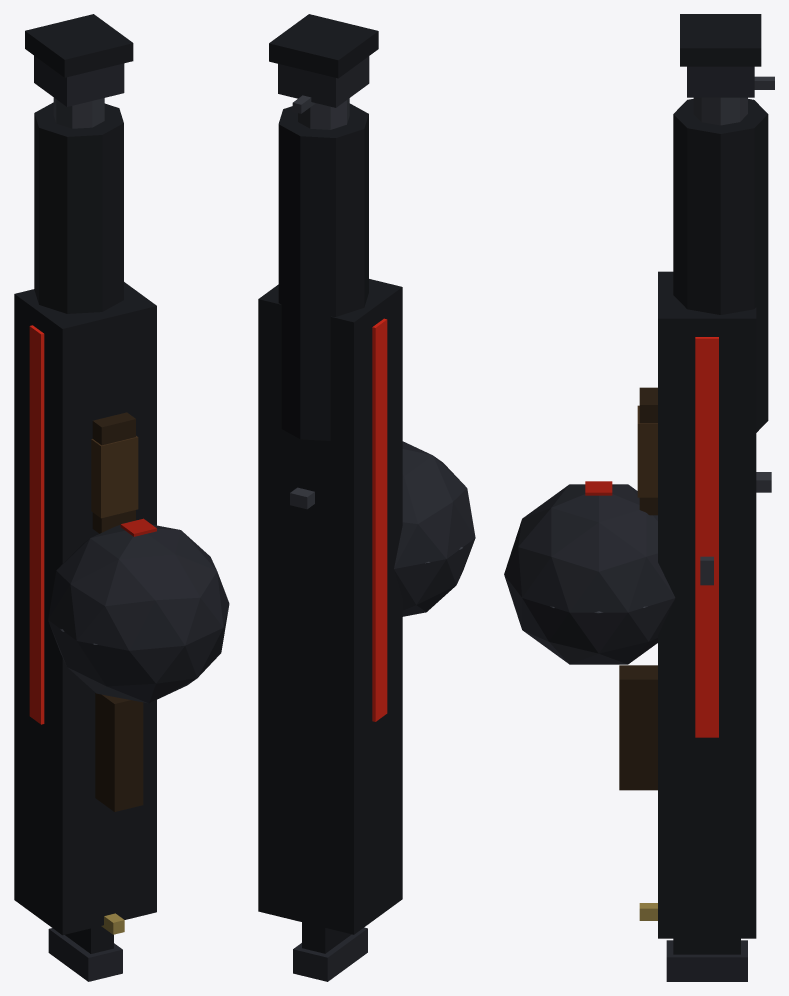
Rendered from gun_soviet_trooper.glb.
3 views of the same model, side by side, from view 1: azimuth 30°, elevation 25°; view 2: azimuth 150°, elevation 25°; view 3: azimuth 270°, elevation 25° (orthographic). The views are drawn at different scales.
Visible parts, largest first — view 1: gun_soviet_trooper; view 2: gun_soviet_trooper; view 3: gun_soviet_trooper.
Part boxes in pixels (x1,y1,x2,y2): gun_soviet_trooper: (14,14,229,981); gun_soviet_trooper: (258,14,475,981); gun_soviet_trooper: (504,14,774,981).
Size of the model in its own units: 0.27 by 1.53 by 0.4.
